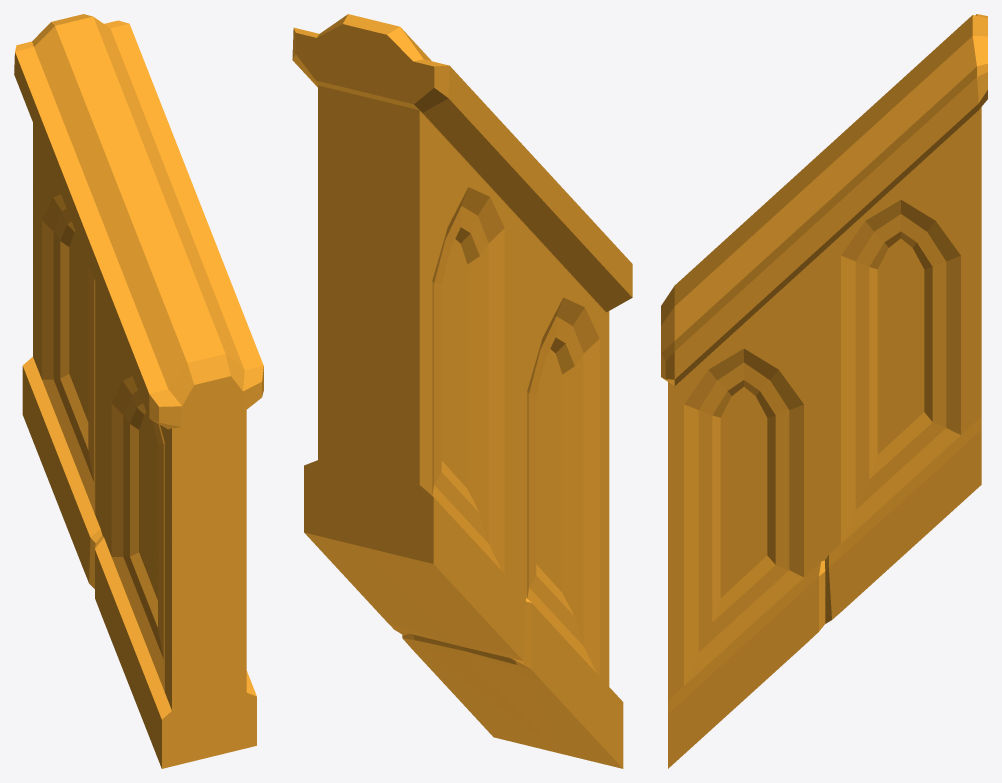
Rendered from SM_Railing_Stone_Stairs_1m_B_Fantasy.fbx.
3 views of the same model, side by side, from view 1: azimuth 30°, elevation 25°; view 2: azimuth 150°, elevation 25°; view 3: azimuth 270°, elevation 25° (orthographic). The views are drawn at different scales.
Visible parts, largest first — view 1: SM_Railing_Stone_Stairs_1m_B_Fantasy; view 2: SM_Railing_Stone_Stairs_1m_B_Fantasy; view 3: SM_Railing_Stone_Stairs_1m_B_Fantasy.
Boxes of the visible parts, <box> form: SM_Railing_Stone_Stairs_1m_B_Fantasy: <box>14,14,263,768</box>; SM_Railing_Stone_Stairs_1m_B_Fantasy: <box>292,14,632,768</box>; SM_Railing_Stone_Stairs_1m_B_Fantasy: <box>661,14,987,768</box>.
Size of the model in its own units: 0.4755 by 2.52 by 1.04.
